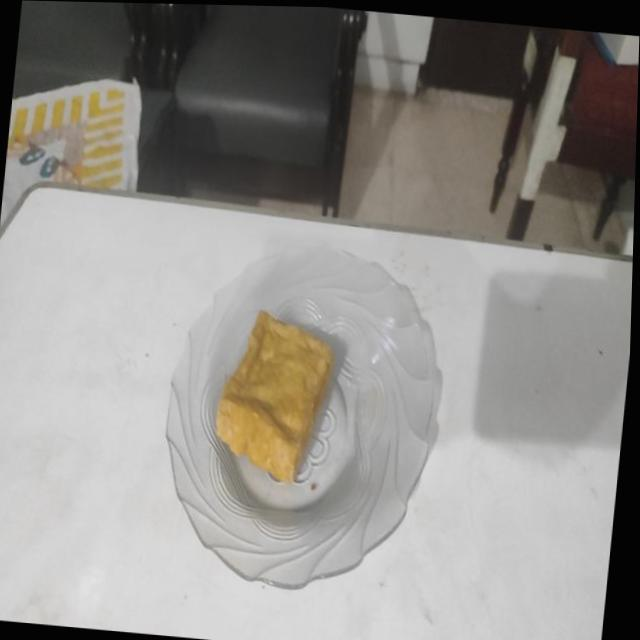tahu_goreng: (216, 311, 333, 482)
